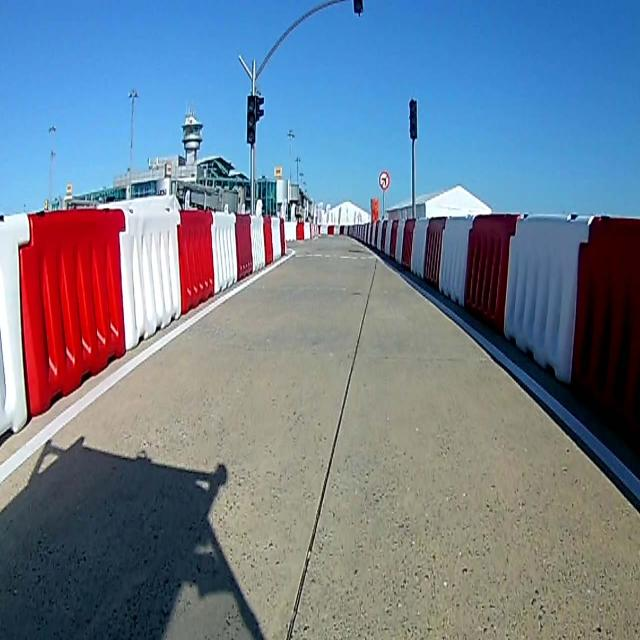soladonulmez: (378, 170, 389, 190)
